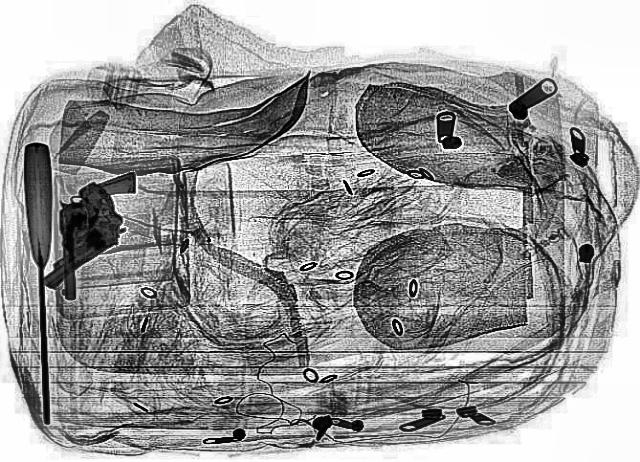Gun: (0, 179, 152, 279), (56, 170, 136, 300)
Knife: (22, 142, 58, 424)
